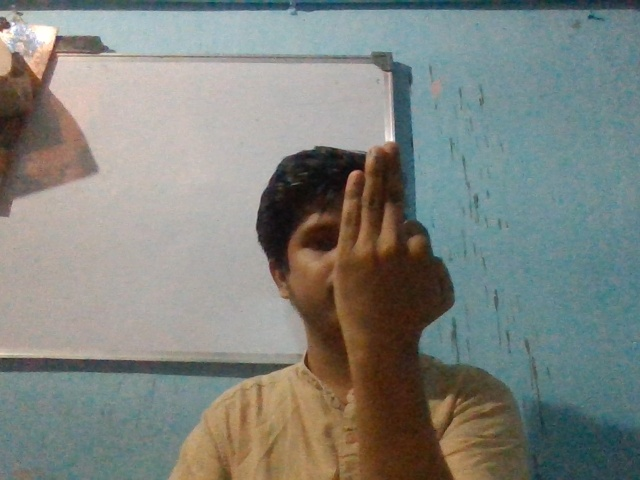Chin: (323, 131, 471, 380)
